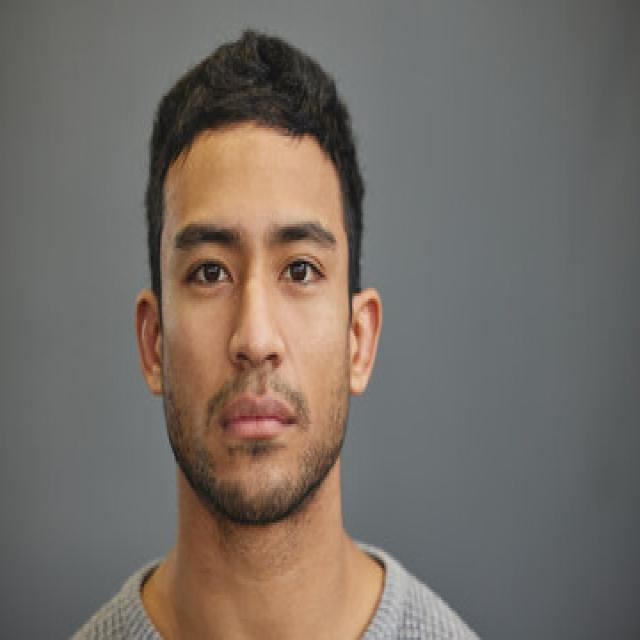person-without-mask: (56, 25, 522, 640)
